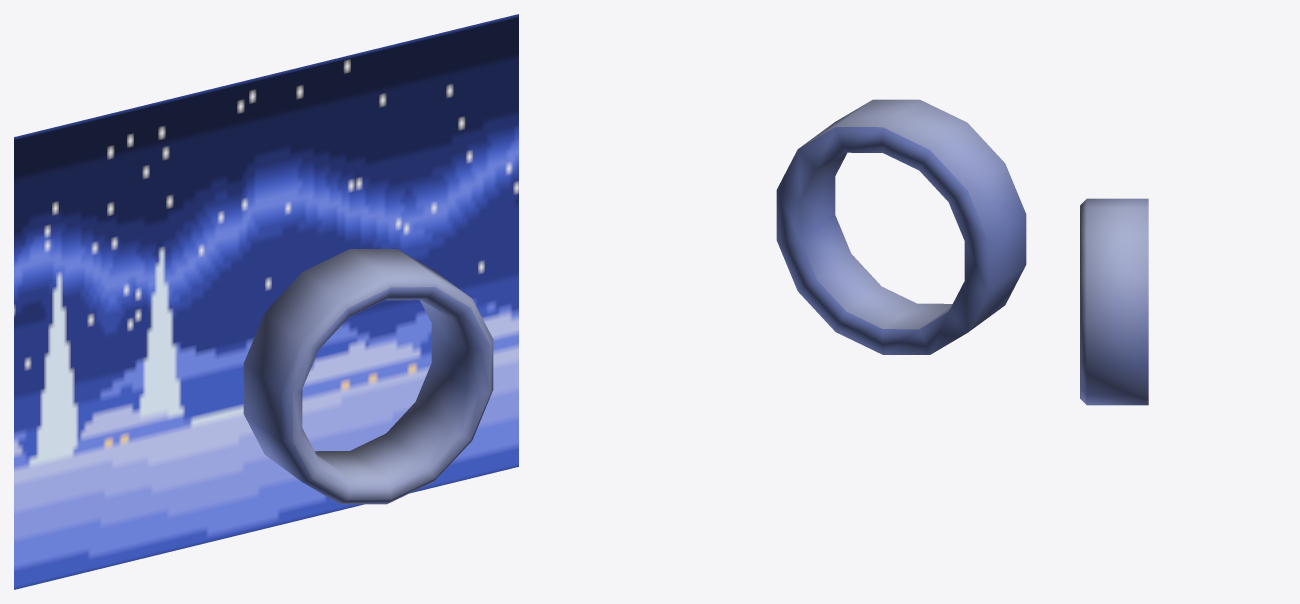
Rendered from arch.window__porthole.glb.
The picture shows the model from 3 angles, left to right: view 1: azimuth 30°, elevation 25°; view 2: azimuth 150°, elevation 25°; view 3: azimuth 270°, elevation 25°; orthographic projection. The views are drawn at different scales.
Visible parts, largest first — view 1: kit_card_view, kit_window_frame; view 2: kit_window_frame; view 3: kit_window_frame.
Part boxes in pixels (x1,y1,x2,y2): kit_card_view: (14,14,518,589); kit_window_frame: (243,249,493,504); kit_window_frame: (776,99,1026,354); kit_window_frame: (1080,198,1148,405).
Size of the model in its own units: 2.1 by 1.8 by 0.9.
Materials: 2 (1 with a texture image).
